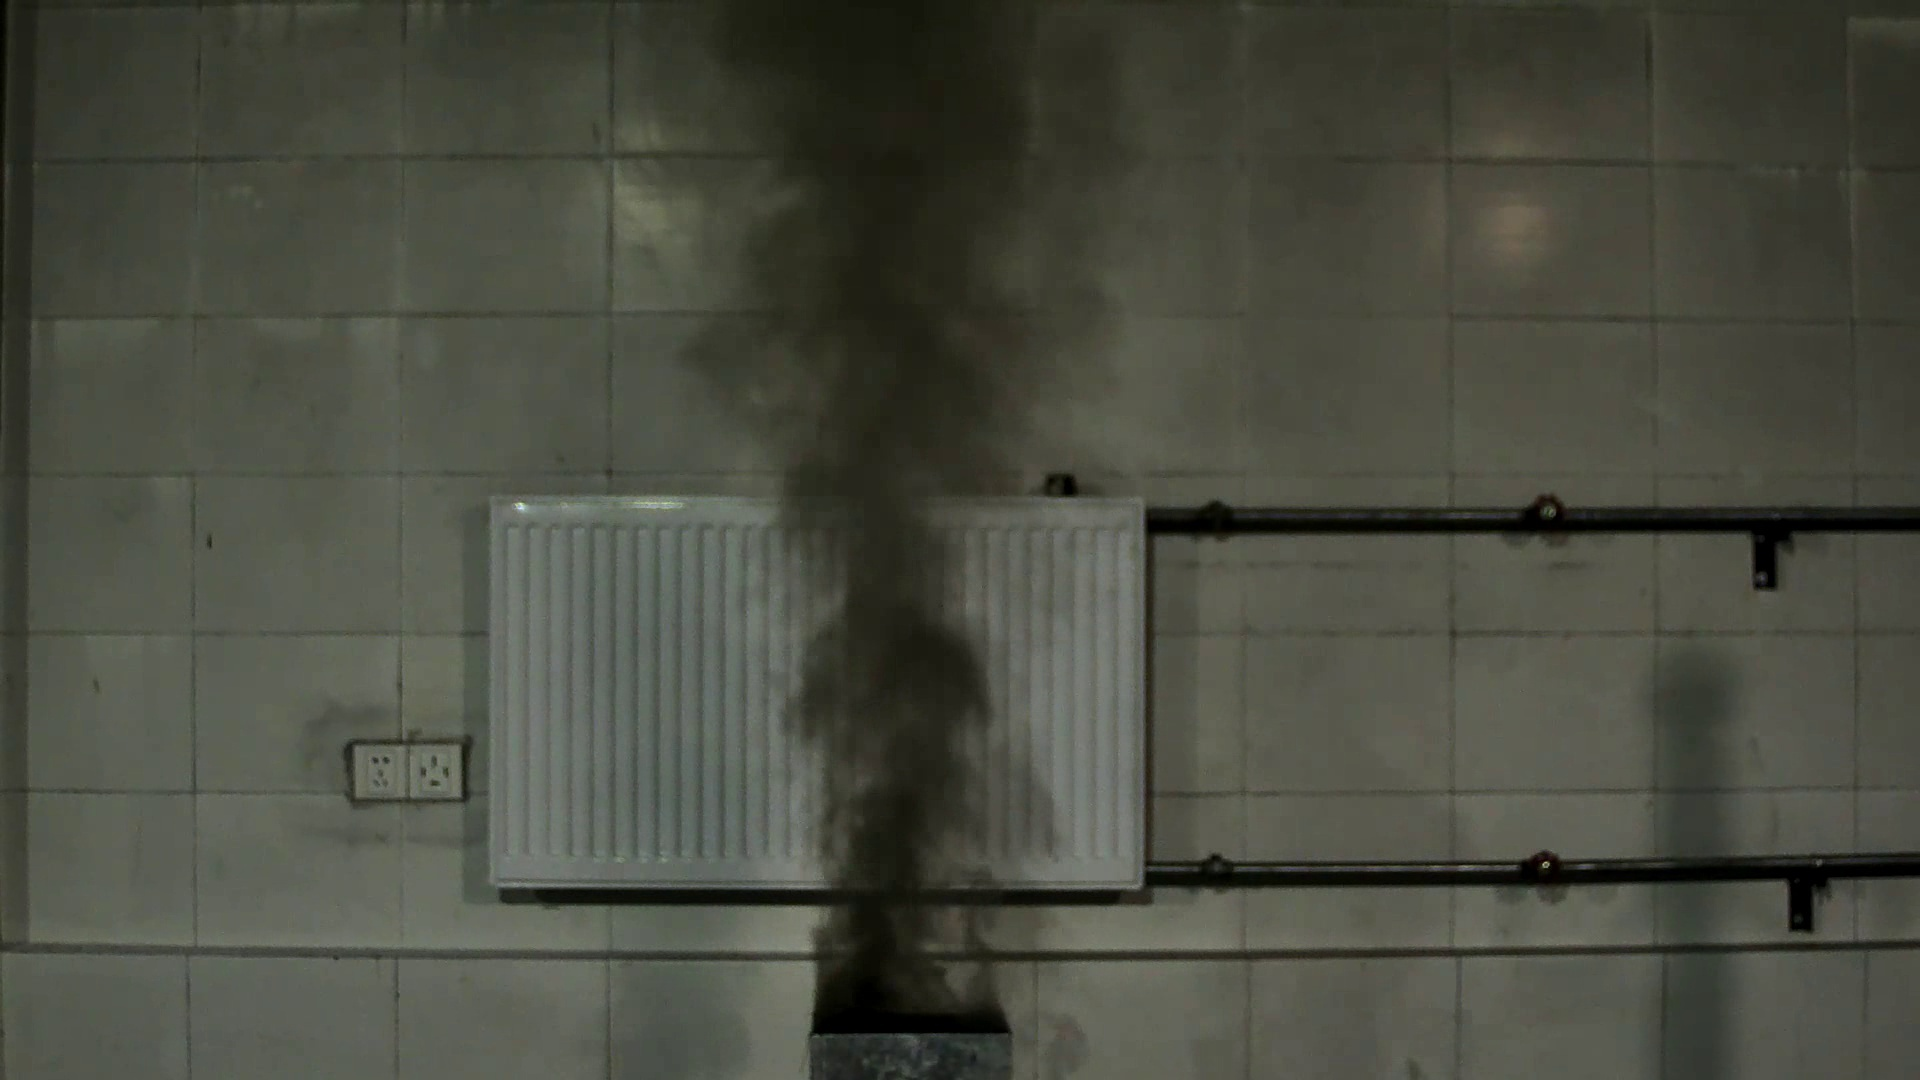smoke: (618, 9, 1117, 1013)
